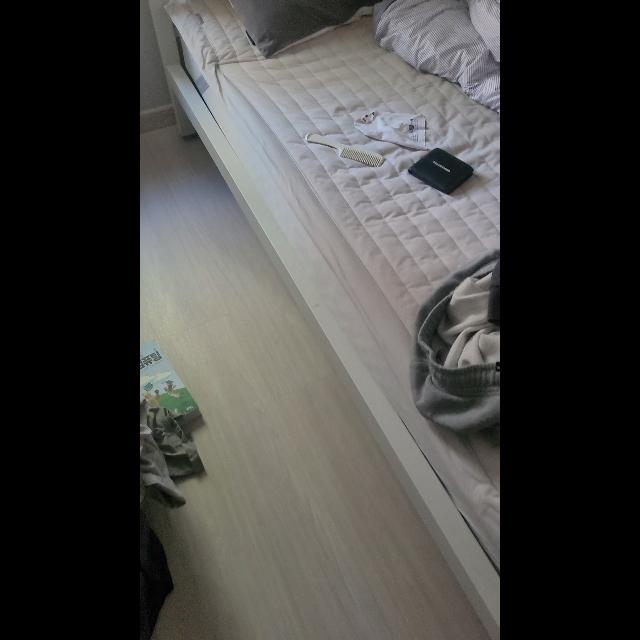COMB: (304, 133, 384, 167)
Glasses cleaning cloth: (354, 109, 426, 151)
WALLET: (407, 147, 473, 195)
